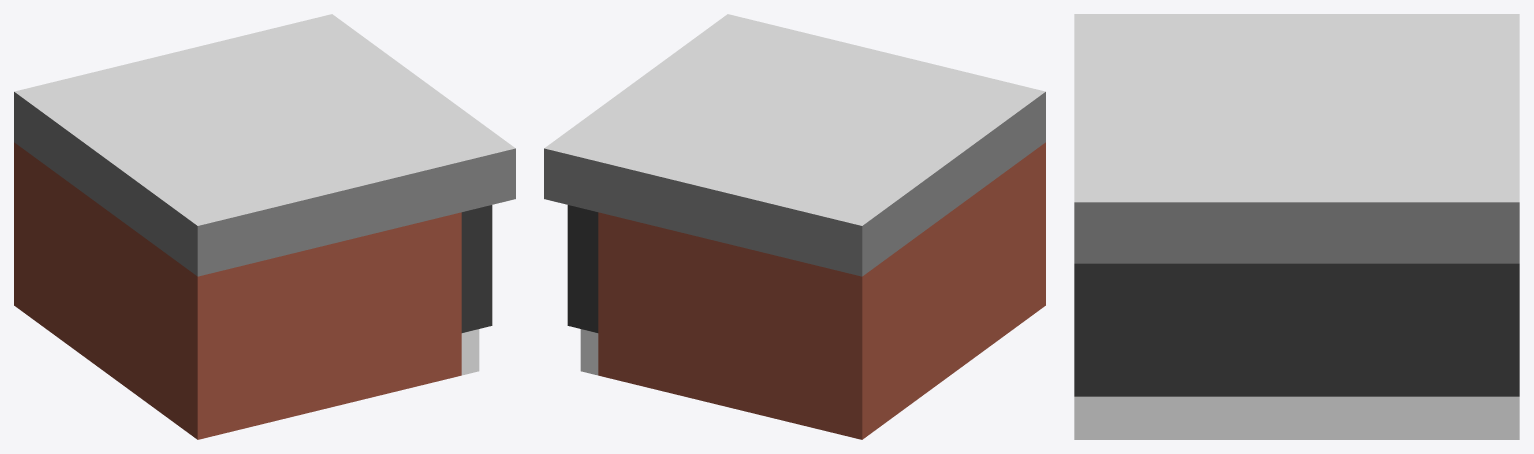
The model's file is pickup.fbx.
The picture shows the model from 3 angles, left to right: view 1: azimuth 30°, elevation 25°; view 2: azimuth 150°, elevation 25°; view 3: azimuth 270°, elevation 25°; orthographic projection. The views are drawn at different scales.
Visible parts, largest first — view 1: Cube.127; view 2: Cube.127; view 3: Cube.127.
Boxes of the visible parts, box(x1,y1,x2,y2) form: Cube.127: box(14, 14, 515, 439); Cube.127: box(544, 14, 1045, 439); Cube.127: box(1074, 14, 1519, 439).
Bounding box in the file's own units: 100 × 100 × 64.26.
